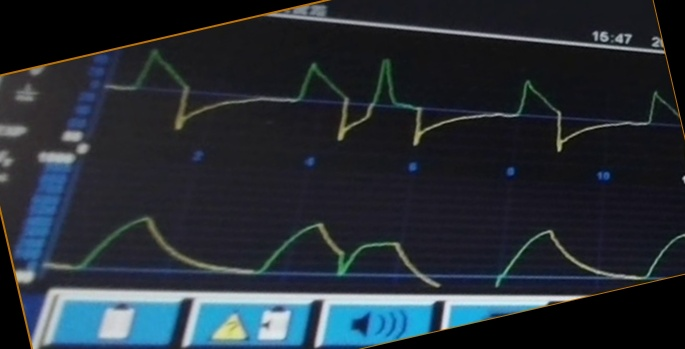Double_Triggering Flow: (133, 46, 677, 155)
Double_Triggering Volume: (65, 203, 682, 286)
